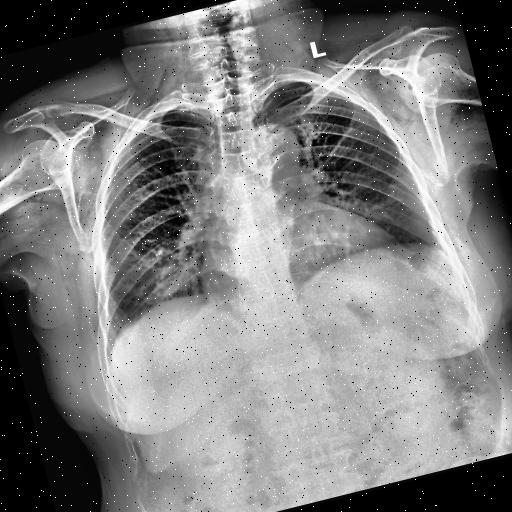0- Aortic enlargement: (242, 114, 306, 182), (238, 116, 303, 176), (244, 120, 302, 172)
3- Cardiomegaly: (191, 196, 405, 311), (194, 217, 397, 294), (196, 221, 396, 295)
